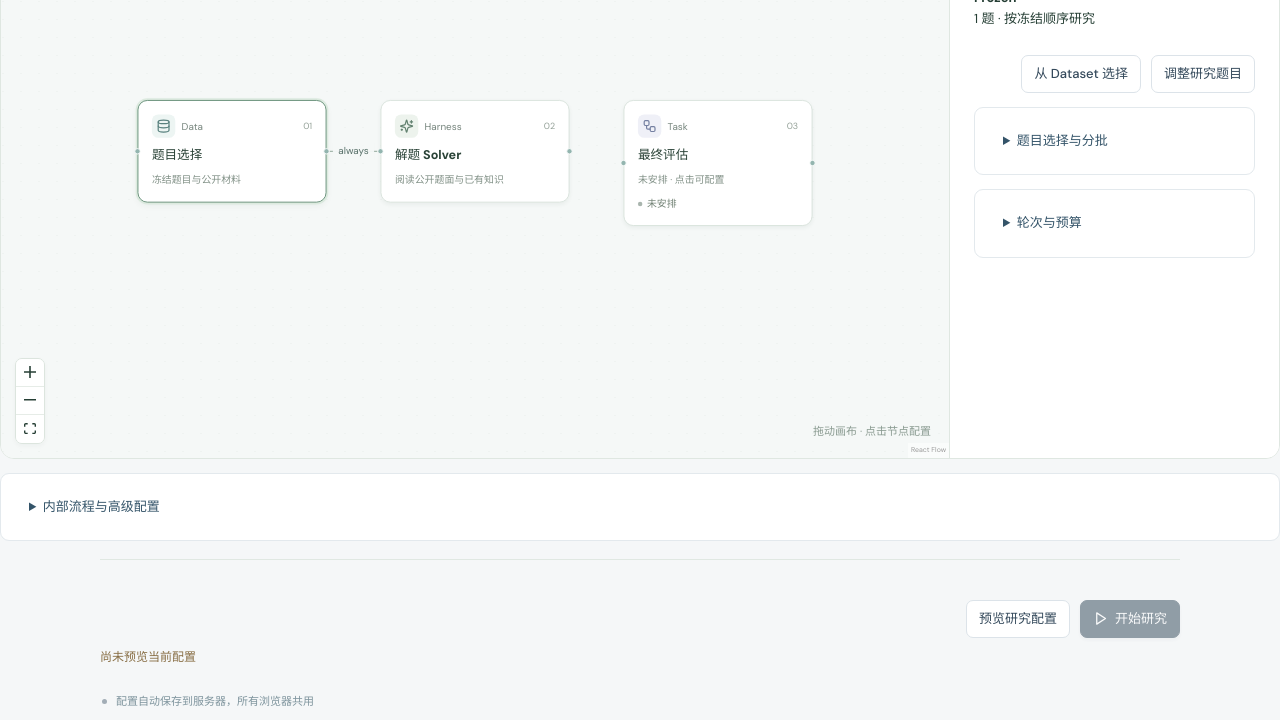
cannot authorize edited settings with an older asynchronous preview
The width and height of the screenshot is (1280, 720).
(page scrolled)
Click the button "预览研究配置": [1018, 619] box [966, 600, 1070, 638]
(page scrolled)
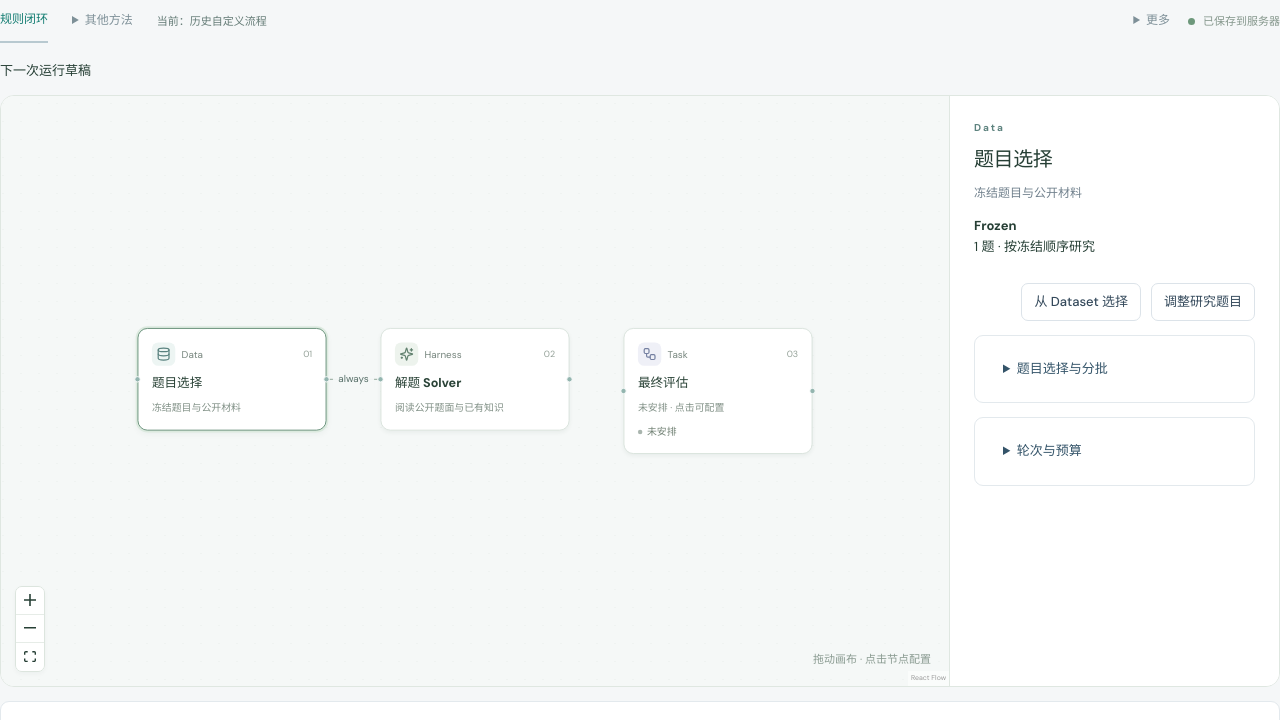
Replace the text in the field named "工作流名称" with "Changed while previewing": [1158, 20] box [1146, 12, 1170, 28]
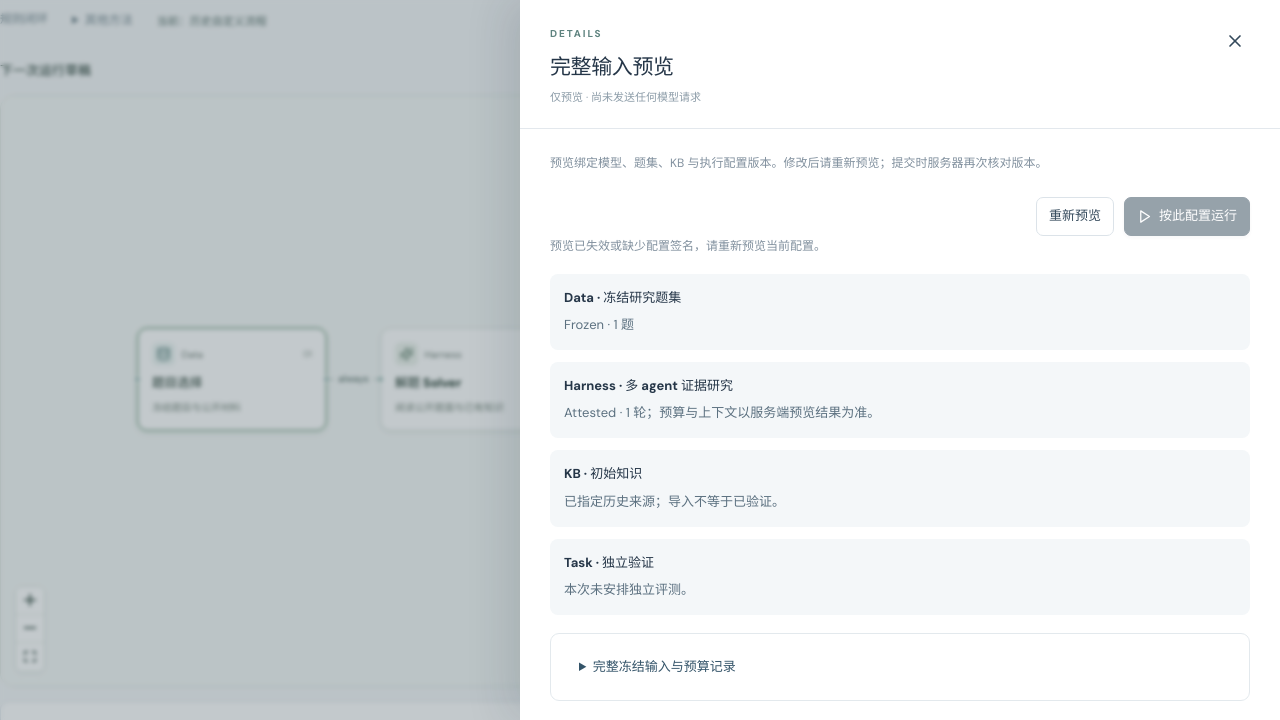
Expected: the button "按此配置运行" is disabled, [1124, 198, 1250, 236]
Expected: the text "预览已失效或缺少配置签名，请重新预览当前配置。" is shown, [550, 238, 826, 254]
